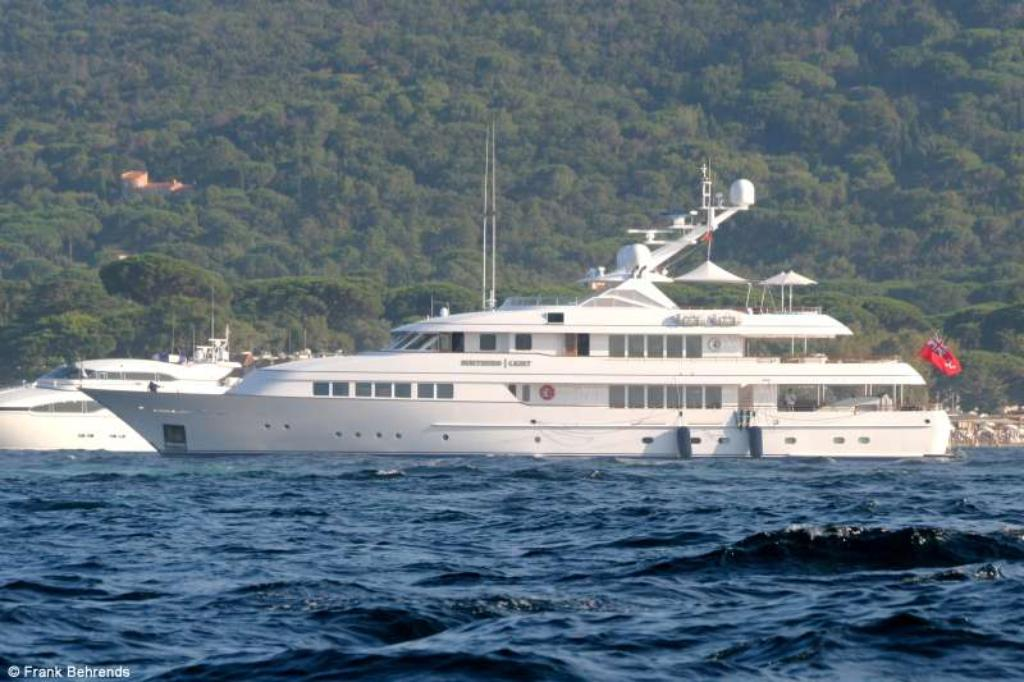PassengerShip: (70, 163, 954, 463), (0, 327, 258, 461)
